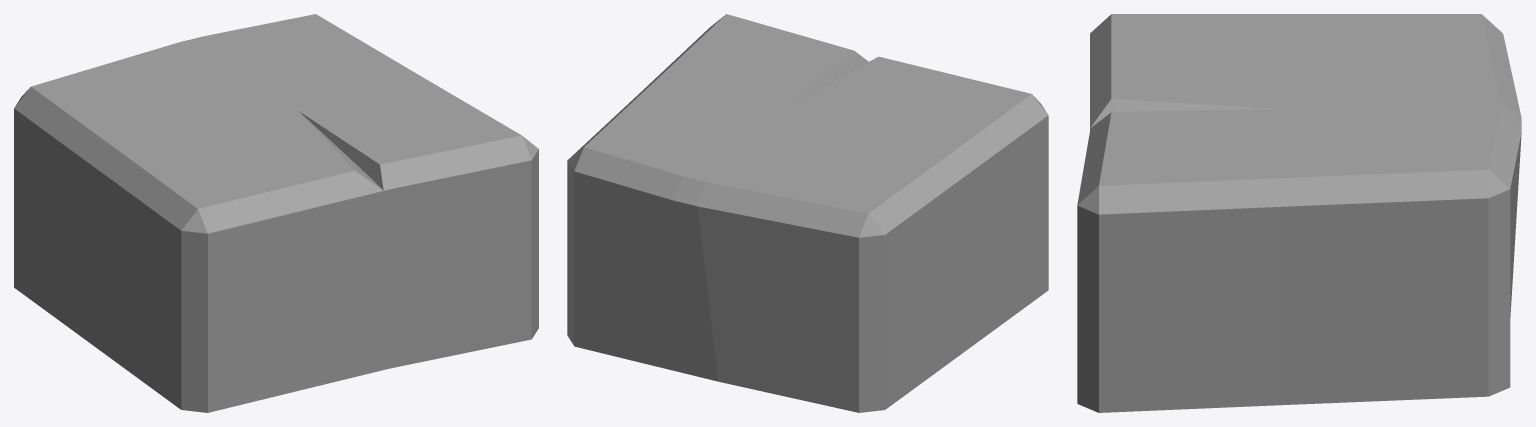
File: Isl_5_Stone_2.fbx
The picture shows the model from 3 angles, left to right: view 1: azimuth 30°, elevation 25°; view 2: azimuth 150°, elevation 25°; view 3: azimuth 270°, elevation 25°; orthographic projection. The views are drawn at different scales.
Visible parts, largest first — view 1: Isl_5_Stone_2; view 2: Isl_5_Stone_2; view 3: Isl_5_Stone_2.
Part boxes in pixels (x1,y1,x2,y2): Isl_5_Stone_2: (14,14,538,412); Isl_5_Stone_2: (567,14,1048,412); Isl_5_Stone_2: (1077,14,1521,412).
Size of the model in its own units: 148 by 146 by 79.02.
1 material, 1 textured.
